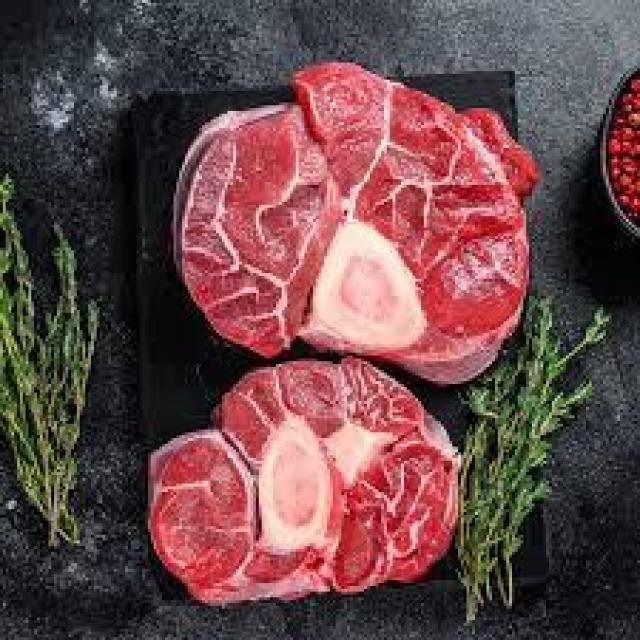Wet Waste: (159, 75, 541, 359)
